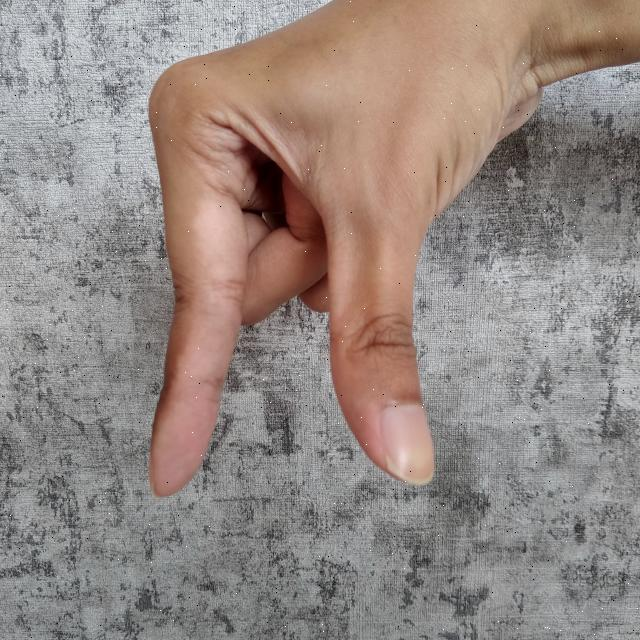Q: (125, 0, 640, 509)
